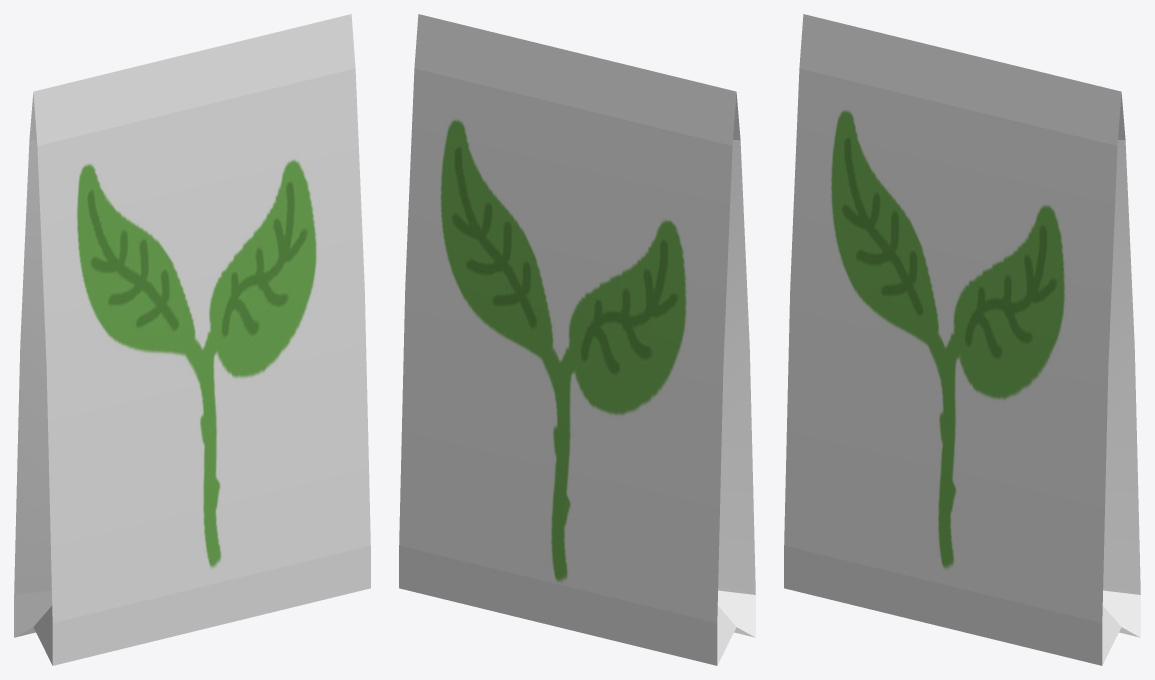
Rendered from seed_packet_export_1.fbx.
3 renders of one model, left to right at view 1: azimuth 30°, elevation 25°; view 2: azimuth 150°, elevation 25°; view 3: azimuth 330°, elevation 25°, orthographic.
Visible parts, largest first — view 1: pCube1; view 2: pCube1; view 3: pCube1.
Boxes of the visible parts, <box> form: pCube1: <box>14,14,370,665</box>; pCube1: <box>399,14,755,665</box>; pCube1: <box>784,14,1140,665</box>.
Bounding box in the file's own units: 4.77 × 8.03 × 1.
